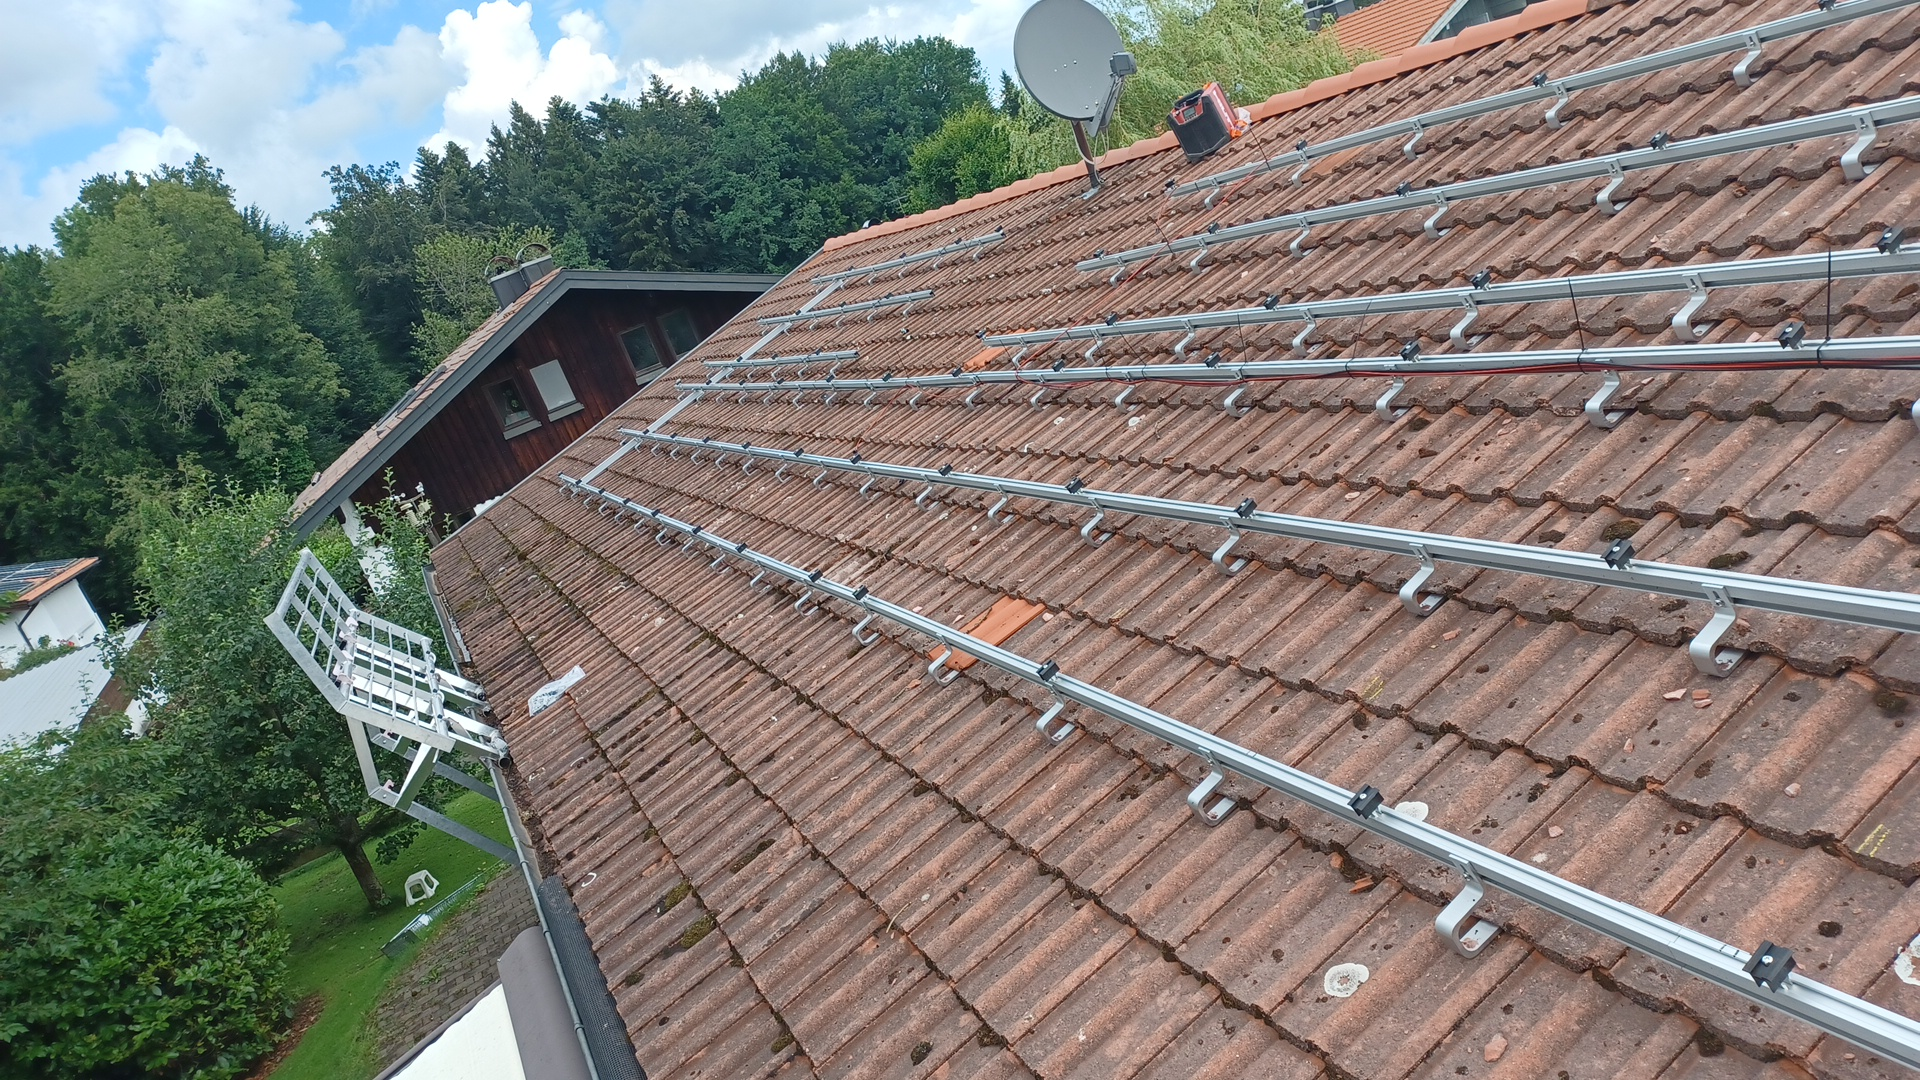hook: (1433, 853, 1503, 960), (1688, 583, 1747, 678), (1185, 746, 1240, 827), (1400, 542, 1447, 617), (1672, 272, 1718, 342), (1585, 357, 1629, 429), (1036, 682, 1079, 748), (1841, 109, 1878, 183), (1596, 157, 1633, 218), (1212, 516, 1247, 578), (1451, 291, 1487, 349), (1375, 364, 1410, 422), (928, 632, 961, 687), (1733, 29, 1763, 86), (1081, 496, 1113, 549), (1292, 307, 1325, 357), (1224, 367, 1251, 418), (852, 599, 880, 647), (1424, 190, 1451, 240), (1545, 80, 1571, 132), (988, 483, 1015, 527), (1116, 371, 1141, 415), (794, 578, 820, 618), (1290, 215, 1312, 258), (916, 473, 942, 512), (1175, 318, 1196, 363), (1404, 117, 1424, 161), (858, 465, 882, 501), (750, 558, 774, 593), (1011, 338, 1034, 369), (1189, 236, 1208, 274), (709, 542, 731, 575), (1292, 150, 1309, 189), (1031, 375, 1048, 411), (1085, 328, 1102, 365), (814, 459, 833, 491), (682, 529, 702, 560), (775, 454, 795, 484), (967, 375, 982, 411), (1205, 175, 1221, 211), (1110, 256, 1126, 289), (742, 448, 760, 477), (634, 509, 651, 535), (909, 381, 923, 411), (715, 444, 732, 469), (864, 382, 878, 411), (597, 495, 615, 518), (655, 520, 671, 545), (670, 436, 684, 462), (691, 440, 705, 465), (615, 500, 629, 524), (1911, 393, 1920, 430), (829, 353, 841, 378), (793, 384, 804, 409), (825, 382, 837, 407), (903, 295, 915, 319), (651, 436, 665, 458), (934, 249, 945, 272), (866, 302, 878, 324), (973, 239, 984, 262), (746, 361, 758, 382), (798, 357, 810, 378), (583, 488, 593, 512), (764, 385, 774, 407), (868, 266, 878, 287), (898, 258, 909, 280), (761, 318, 771, 338), (808, 313, 819, 332), (836, 309, 847, 328), (771, 359, 781, 381), (815, 277, 825, 295), (840, 273, 851, 291), (738, 386, 748, 407), (559, 477, 570, 496), (725, 363, 735, 382), (634, 434, 644, 454), (696, 386, 705, 405), (716, 386, 725, 405), (705, 363, 715, 380), (785, 316, 793, 336), (572, 483, 580, 502), (618, 431, 629, 446), (676, 385, 684, 402)
